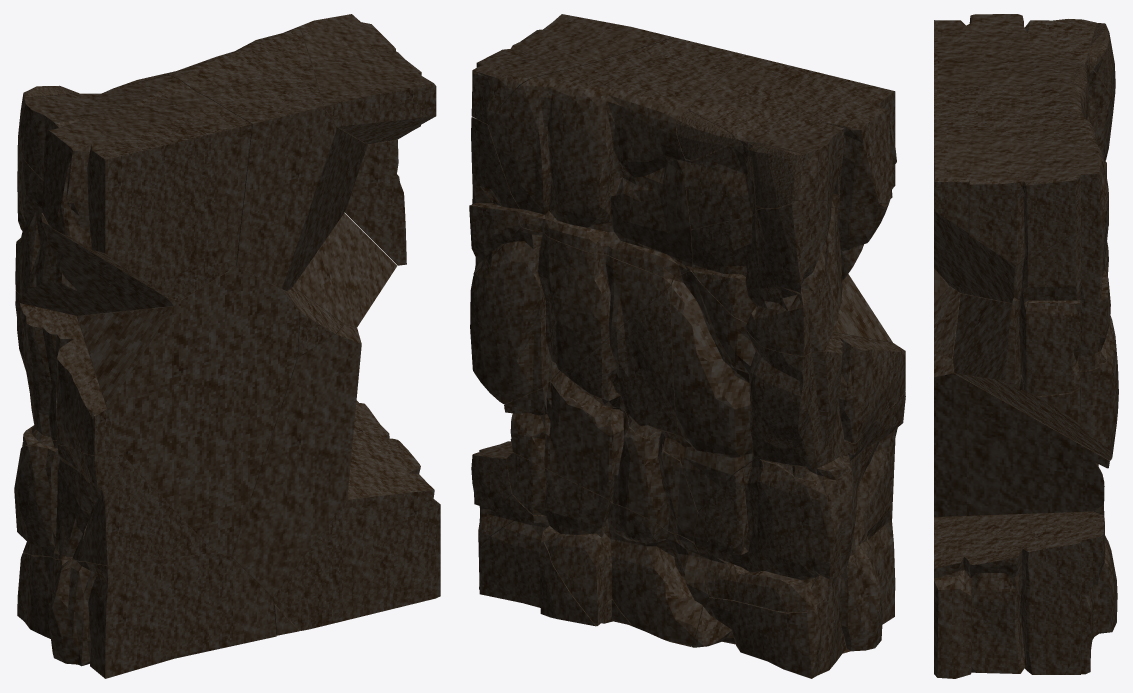
File: cave-wall1-fracturable.glb
3 renders of one model, left to right at view 1: azimuth 30°, elevation 25°; view 2: azimuth 150°, elevation 25°; view 3: azimuth 270°, elevation 25°, orthographic. The views are drawn at different scales.
Parts seen in each view (by area): view 1: Cube_cell.005, Cube_cell.012, Cube_cell.019, Cube_cell.016, Cube_cell.010, Cube_cell.009, Cube_cell.013, Cube_cell.017, Cube_cell, Cube_cell.018, Cube_cell.006, Cube_cell.003 (+1 smaller); view 2: Cube_cell.019, Cube_cell.012, Cube_cell.013, Cube_cell.006, Cube_cell, Cube_cell.004, Cube_cell.005, Cube_cell.018, Cube_cell.009, Cube_cell.016, Cube_cell.007, Cube_cell.017 (+5 smaller); view 3: Cube_cell.010, Cube_cell.009, Cube_cell.017, Cube_cell.003, Cube_cell.019, Cube_cell.012, Cube_cell.006, Cube_cell.011, Cube_cell.007, Cube_cell.001, Cube_cell, Cube_cell.004 (+2 smaller).
Part boxes in pixels (x1,y1,x2,y2): Cube_cell.005: (76,266,299,556); Cube_cell.012: (18,75,252,300); Cube_cell.019: (167,26,367,291); Cube_cell.016: (17,551,276,678); Cube_cell.010: (272,400,440,630); Cube_cell.009: (227,324,361,596); Cube_cell.013: (14,439,212,565); Cube_cell.017: (300,14,436,144); Cube_cell: (15,135,179,315); Cube_cell.018: (15,291,115,455); Cube_cell.006: (293,213,396,327); Cube_cell.003: (344,139,406,265); Cube_cell.019: (488,37,745,279); Cube_cell.012: (685,55,896,229); Cube_cell.013: (694,391,905,612); Cube_cell.006: (470,227,672,404); Cube_cell: (691,200,888,356); Cube_cell.004: (506,452,708,646); Cube_cell.005: (671,269,892,511); Cube_cell.018: (750,332,905,480); Cube_cell.009: (504,376,698,543); Cube_cell.016: (691,503,895,678); Cube_cell.007: (551,279,680,459); Cube_cell.017: (471,14,673,124); Cube_cell.010: (934,511,1105,678); Cube_cell.009: (934,349,1109,516); Cube_cell.017: (934,122,1108,265); Cube_cell.003: (1004,208,1110,396); Cube_cell.019: (934,82,1108,302); Cube_cell.012: (934,14,1112,123); Cube_cell.006: (952,270,1118,460); Cube_cell.011: (1063,562,1117,674); Cube_cell.007: (934,286,961,358); Cube_cell.001: (1088,23,1115,94); Cube_cell: (1091,80,1115,176); Cube_cell.004: (1093,504,1117,588).
Bounding box in the file's own units: 1.34 × 1.83 × 0.6044.
Materials: 1 (1 with a texture image).
